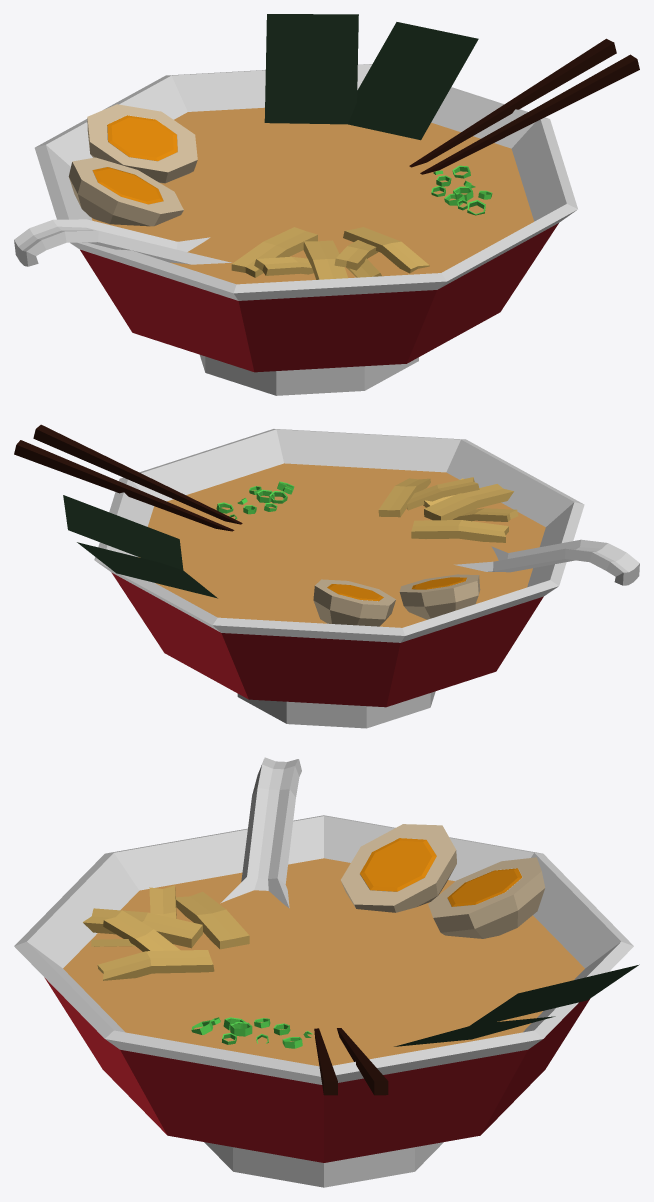
The model's file is ramen.glb.
3 renders of one model, top to bottom at view 1: azimuth 30°, elevation 25°; view 2: azimuth 150°, elevation 25°; view 3: azimuth 270°, elevation 25°, orthographic. The views are drawn at different scales.
Parts seen in each view (by area): view 1: Circle, Circle.003, Plane, Plane.001, Circle.002, Circle.001, Cube.002, Cube, Cube.001, Cube.006, Cube.004, Cube.005 (+2 smaller); view 2: Circle, Circle.003, Plane.001, Cube.002, Circle.002, Circle.001, Cube.001, Cube, Plane, Cube.006, Cube.005, Cube.004 (+2 smaller); view 3: Circle, Circle.003, Circle.001, Circle.002, Cube.002, Plane, Cube.004, Cube.006, Cube.005, Cube.003, Plane.001, Cube.001 (+2 smaller).
Part boxes in pixels (x1,y1,x2,y2): Circle: [34, 64, 577, 395]; Circle.003: [91, 107, 533, 284]; Plane: [264, 14, 358, 124]; Plane.001: [348, 22, 478, 140]; Circle.002: [87, 104, 197, 183]; Circle.001: [68, 157, 183, 226]; Cube.002: [14, 219, 231, 266]; Cube: [420, 54, 639, 174]; Cube.001: [409, 38, 616, 167]; Cube.006: [231, 227, 317, 277]; Cube.004: [343, 227, 429, 273]; Cube.005: [303, 240, 347, 279]; Circle: [94, 429, 584, 728]; Circle.003: [138, 463, 545, 627]; Plane.001: [63, 495, 183, 570]; Cube.002: [454, 539, 639, 585]; Circle.002: [313, 579, 395, 626]; Circle.001: [399, 574, 480, 619]; Cube.001: [14, 440, 234, 531]; Cube: [33, 424, 242, 524]; Plane: [77, 542, 217, 598]; Cube.006: [411, 520, 508, 542]; Cube.005: [424, 484, 513, 520]; Cube.004: [378, 478, 430, 517]; Circle: [14, 815, 633, 1187]; Circle.003: [63, 858, 584, 1066]; Circle.001: [340, 824, 456, 912]; Circle.002: [428, 857, 545, 938]; Cube.002: [220, 757, 301, 908]; Plane: [470, 964, 639, 1025]; Cube.004: [97, 950, 214, 980]; Cube.006: [176, 891, 249, 949]; Cube.005: [83, 908, 202, 948]; Cube.003: [103, 910, 180, 951]; Plane.001: [394, 1016, 555, 1046]; Cube.001: [337, 1028, 388, 1095].
Bounding box in the file's own units: 4.67 × 1.46 × 3.59.
